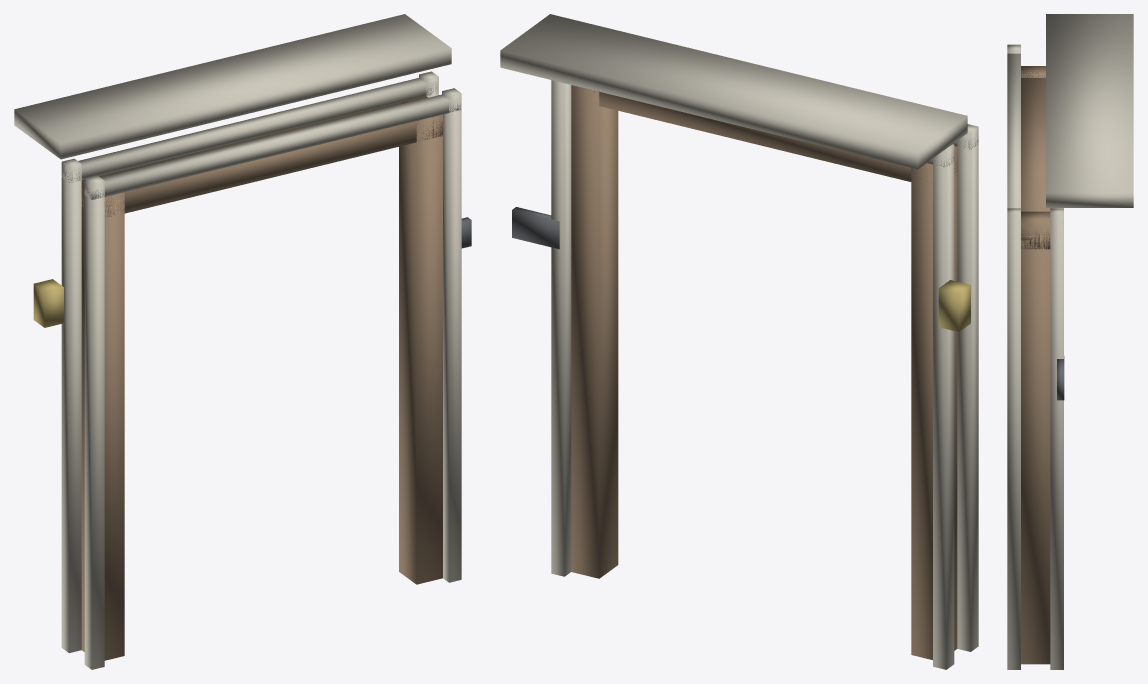
The model's file is doorway_motel_w152_h220_d16.glb.
3 renders of one model, left to right at view 1: azimuth 30°, elevation 25°; view 2: azimuth 150°, elevation 25°; view 3: azimuth 270°, elevation 25°, orthographic. The views are drawn at different scales.
Visible parts, largest first — view 1: world; view 2: world; view 3: world.
Boxes of the visible parts, x1=… form: world: x1=14, y1=14, x2=471, y2=669; world: x1=500, y1=14, x2=978, y2=669; world: x1=1007, y1=14, x2=1133, y2=669.
Bounding box in the file's own units: 2.22 × 2.56 × 0.6058.
